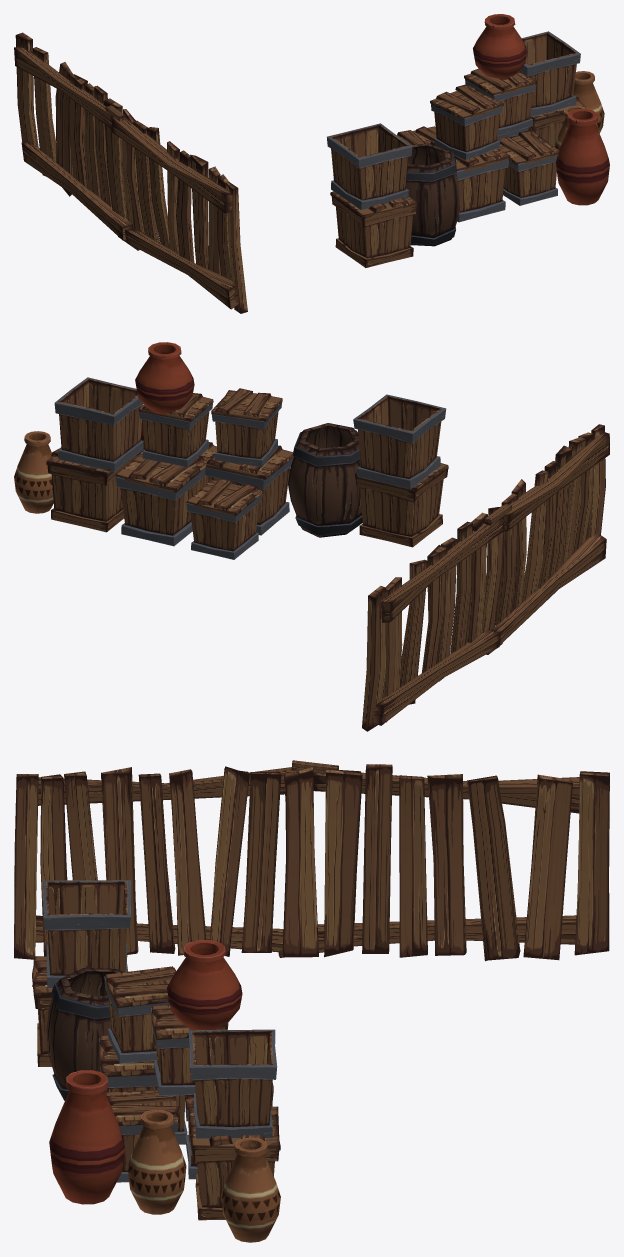
File: RoomsObst2.fbx
The picture shows the model from 3 angles, top to bottom: view 1: azimuth 30°, elevation 25°; view 2: azimuth 150°, elevation 25°; view 3: azimuth 270°, elevation 25°; orthographic projection. The views are drawn at different scales.
Visible parts, largest first — view 1: SM_PROP_box_dungeon_03.001, SM_PROP_woodbridge_dungeon_10.005, SM_PROP_pot_dungeon_04.008; view 2: SM_PROP_box_dungeon_03.001, SM_PROP_woodbridge_dungeon_10.005, SM_PROP_pot_dungeon_04.008; view 3: SM_PROP_woodbridge_dungeon_10.005, SM_PROP_box_dungeon_03.001, SM_PROP_pot_dungeon_04.008.
Part boxes in pixels (x1,y1,x2,y2): SM_PROP_box_dungeon_03.001: [327, 31, 585, 267]; SM_PROP_woodbridge_dungeon_10.005: [14, 32, 247, 313]; SM_PROP_pot_dungeon_04.008: [473, 14, 609, 205]; SM_PROP_box_dungeon_03.001: [46, 377, 448, 559]; SM_PROP_woodbridge_dungeon_10.005: [362, 424, 609, 731]; SM_PROP_pot_dungeon_04.008: [14, 342, 194, 513]; SM_PROP_woodbridge_dungeon_10.005: [14, 760, 609, 961]; SM_PROP_box_dungeon_03.001: [32, 880, 280, 1220]; SM_PROP_pot_dungeon_04.008: [49, 940, 280, 1242].
Bounding box in the file's own units: 7.83 × 2.71 × 6.19.
5 materials, 5 textured.
